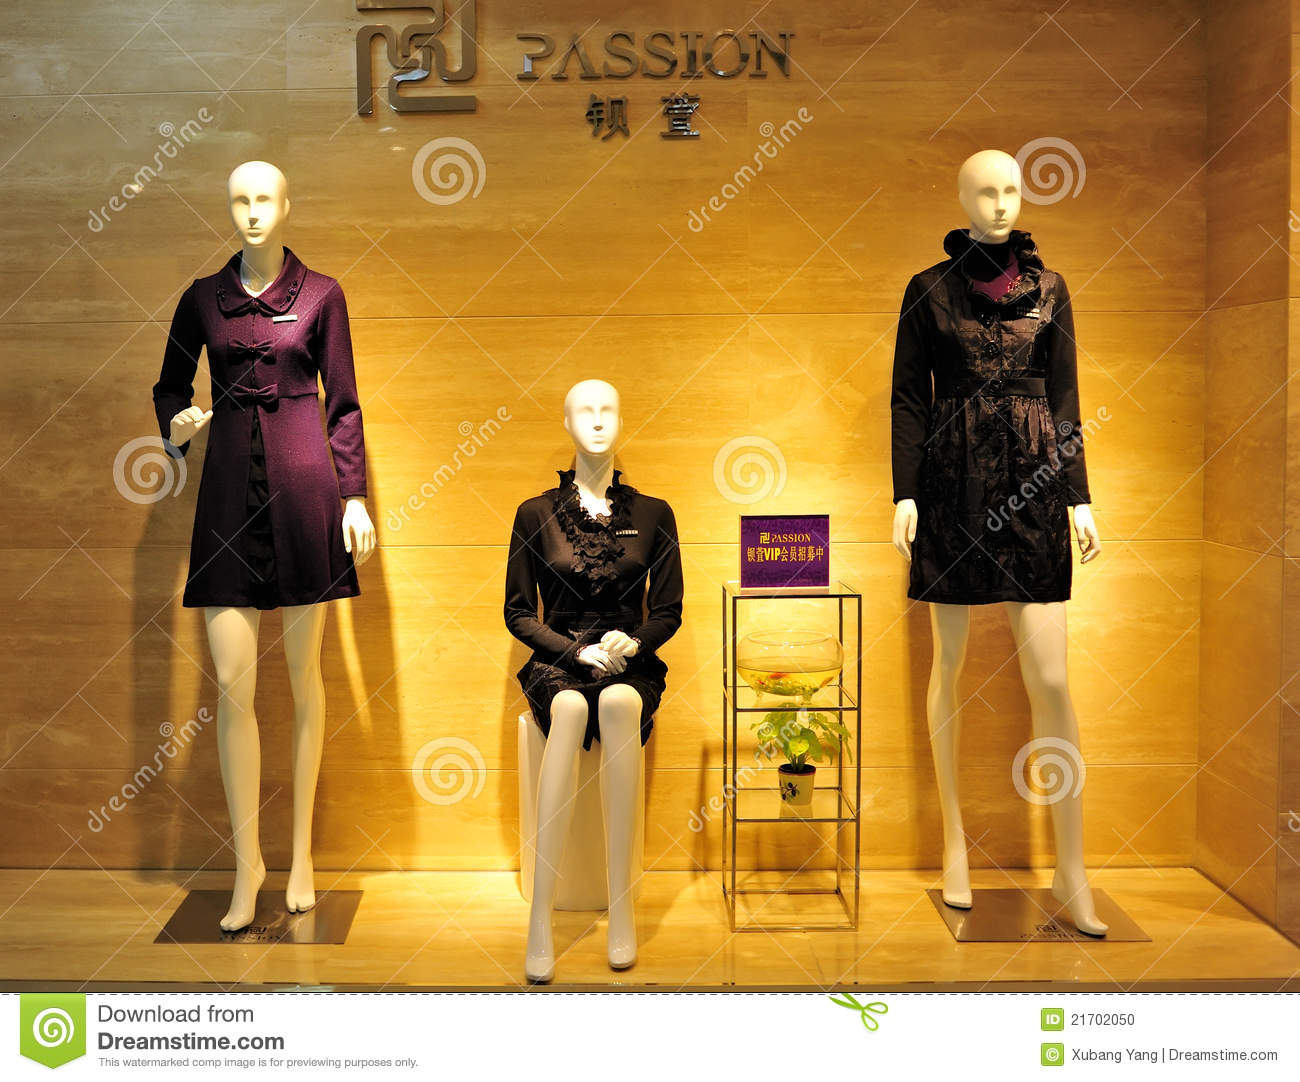person-like: (872, 134, 1127, 949), (138, 149, 387, 940), (485, 367, 693, 989)
